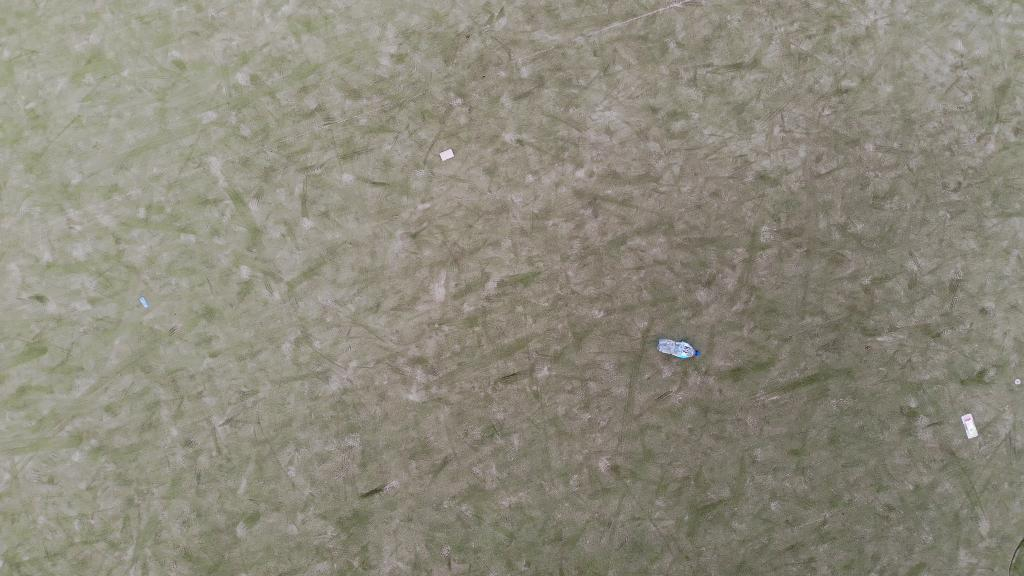garbage: (658, 335, 702, 364), (962, 410, 979, 443), (438, 147, 457, 163)
